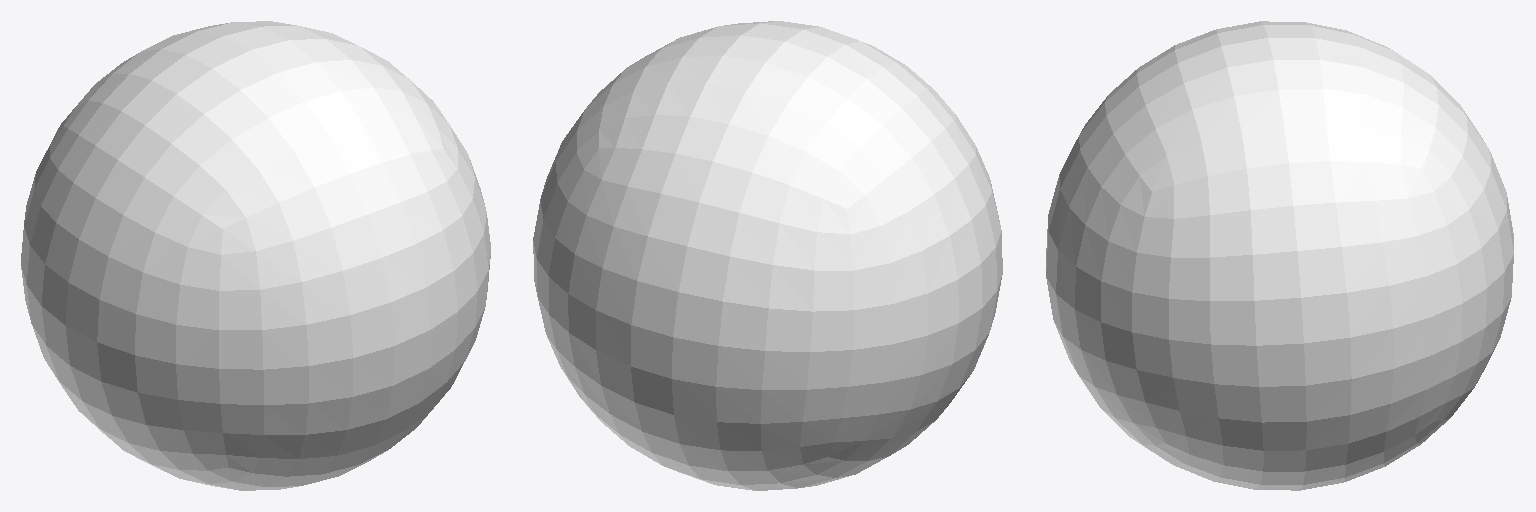
The model's file is earth2.obj.
3 views of the same model, side by side, from view 1: azimuth 30°, elevation 25°; view 2: azimuth 150°, elevation 25°; view 3: azimuth 270°, elevation 25° (orthographic).
Size of the model in its own units: 6.32 by 6.34 by 6.32.